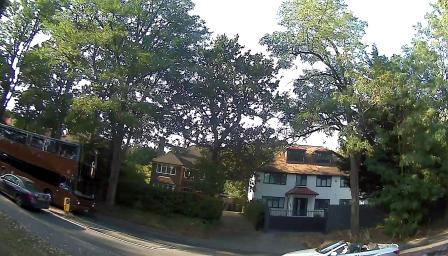Cars: (1, 124, 102, 220), (3, 170, 66, 218), (289, 235, 400, 256)
